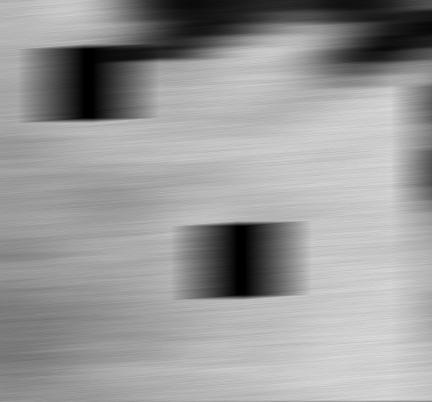Airbag: (0, 0, 432, 402), (416, 1, 432, 401)
